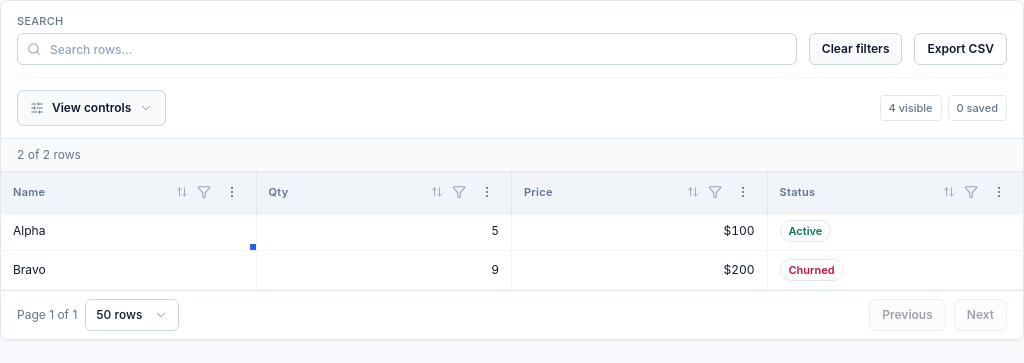
Scenario: DataGrid cell editing › enters edit on double-click and commits via Enter without mutating data
The image size is (1024, 363).
Double-click the text "Alpha": (129, 232) [1, 212, 256, 251]
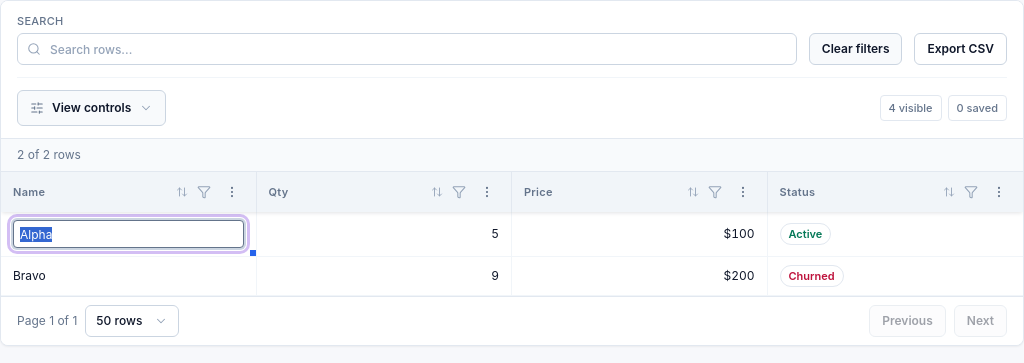
Replace the text in the field showing "Alpha" with "Alphabet": (128, 234) [13, 220, 244, 248]
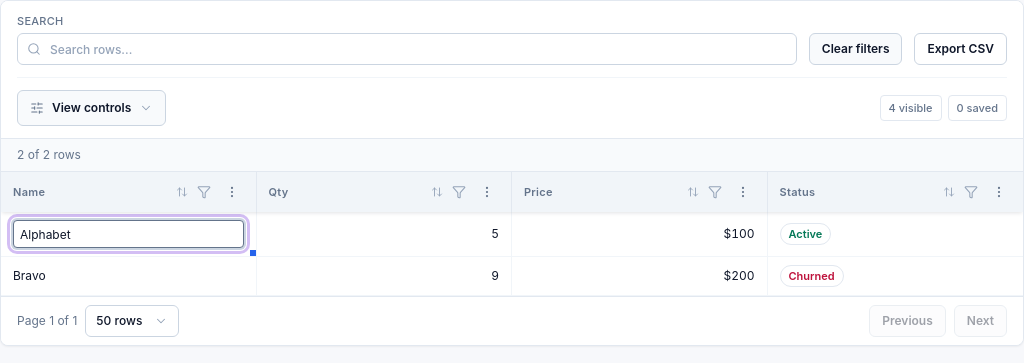
Press Enter in the field showing "Alpha", box [13, 220, 244, 248]
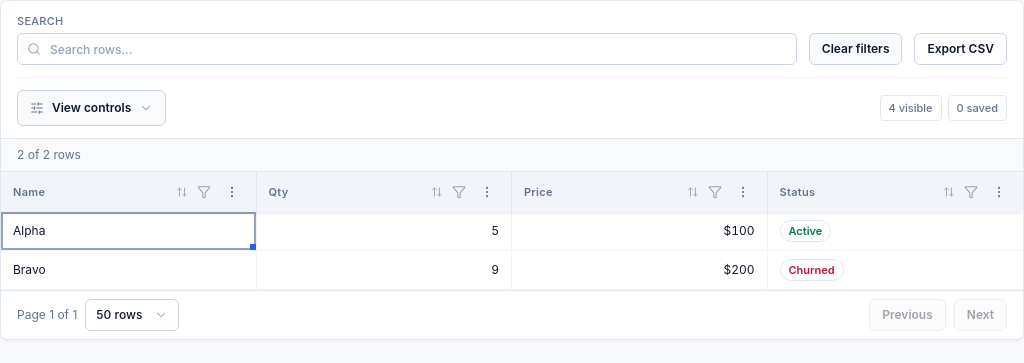
Result: the text "Alpha" is shown at [1, 212, 256, 251]
